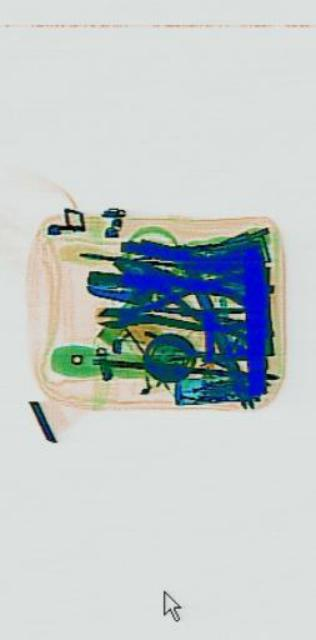Pliers: (110, 232, 248, 342), (94, 273, 246, 343)
